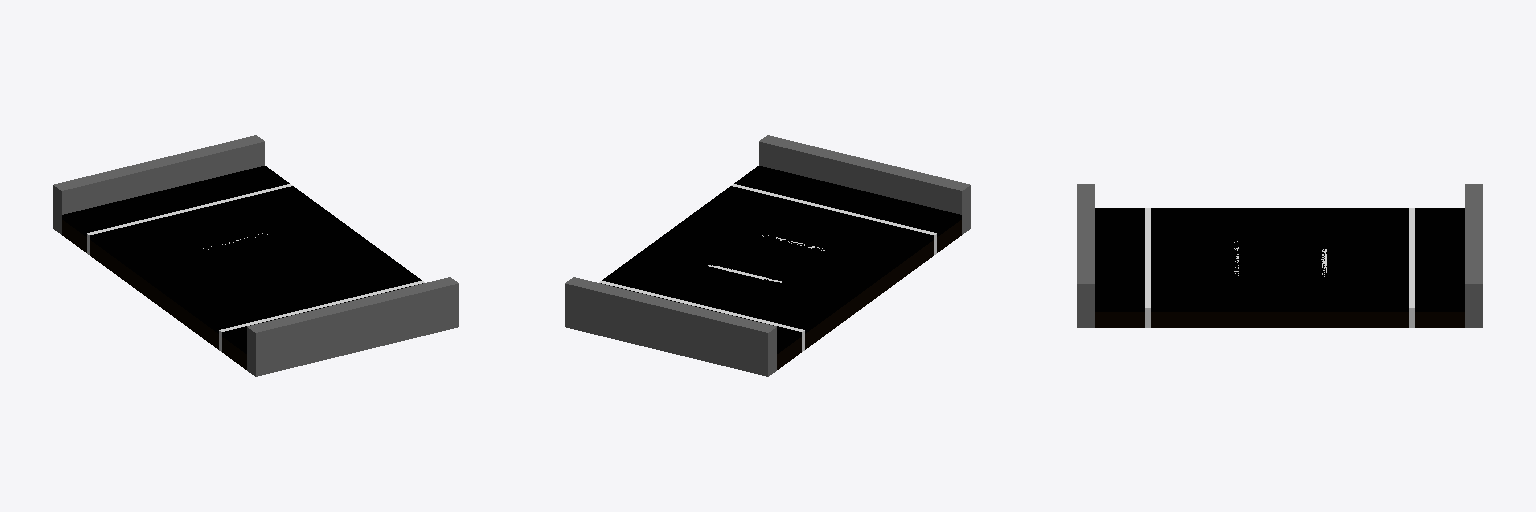
Rendered from road3.obj.
3 views of the same model, side by side, from view 1: azimuth 30°, elevation 25°; view 2: azimuth 150°, elevation 25°; view 3: azimuth 270°, elevation 25° (orthographic).
Parts seen in each view (by area): view 1: Road3; view 2: Road3; view 3: Road3.
Part boxes in pixels (left/top/right/bottom): Road3: left=53, top=135, right=458, bottom=376; Road3: left=565, top=135, right=970, bottom=376; Road3: left=1077, top=184, right=1482, bottom=327.
Size of the model in its own units: 5.33 by 1.1 by 9.2.